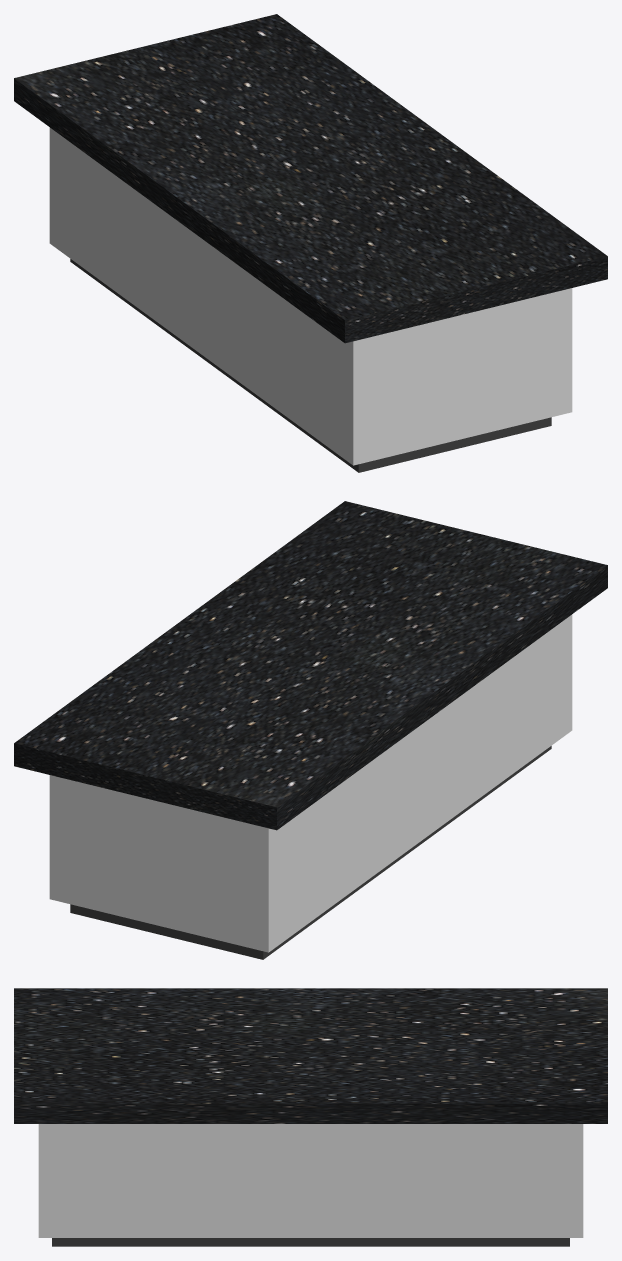
File: KitchenIslandFBX.fbx
3 renders of one model, top to bottom at view 1: azimuth 30°, elevation 25°; view 2: azimuth 150°, elevation 25°; view 3: azimuth 270°, elevation 25°, orthographic. The views are drawn at different scales.
Visible parts, largest first — view 1: pCube1; view 2: pCube1; view 3: pCube1.
Part boxes in pixels (x1,y1,x2,y2): pCube1: (14, 14, 607, 472); pCube1: (14, 501, 607, 959); pCube1: (14, 988, 607, 1246).
Bounding box in the file's own units: 6 × 3.85 × 13.08.
